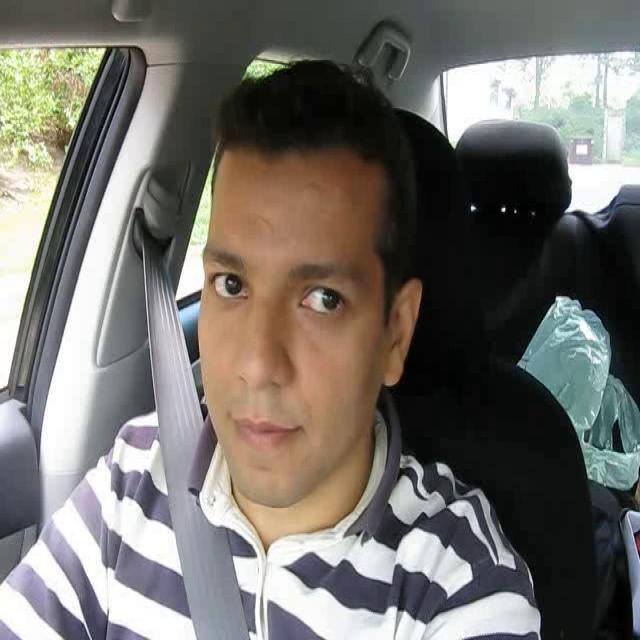open: (280, 256, 360, 341), (201, 244, 253, 320)
